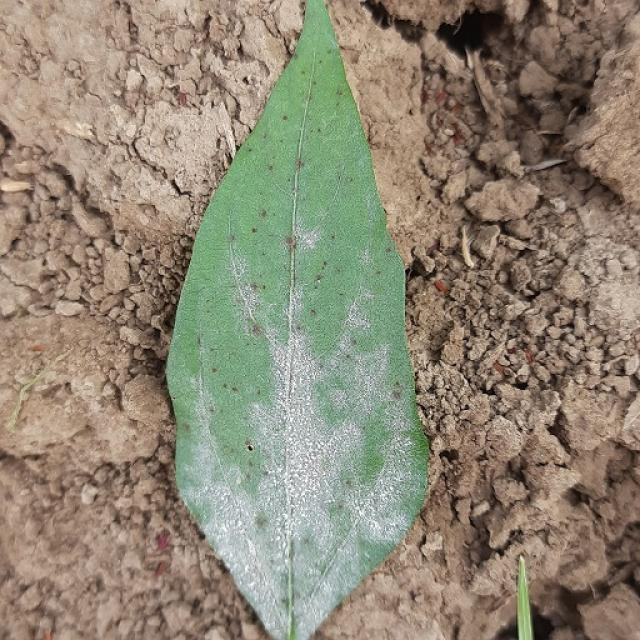Blackgram: (166, 0, 426, 639)
Powdery_Mildew: (226, 226, 394, 552), (188, 280, 270, 634), (269, 348, 353, 509), (276, 143, 350, 320), (306, 328, 398, 469), (288, 484, 369, 640), (274, 231, 298, 640), (289, 49, 314, 253), (231, 239, 276, 341), (228, 222, 264, 331), (281, 277, 300, 436), (355, 339, 390, 415), (296, 229, 319, 253), (329, 503, 343, 516), (255, 515, 267, 528), (330, 38, 339, 49), (302, 537, 310, 545), (351, 337, 358, 346)
